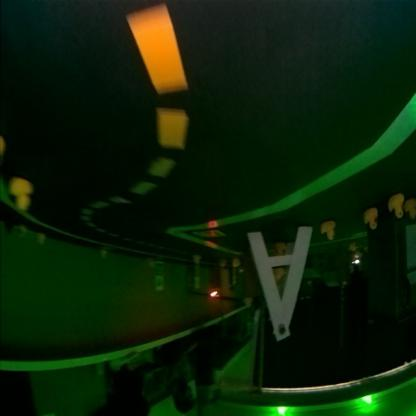Duckie: (12, 178, 34, 210), (366, 209, 380, 230), (392, 196, 404, 218), (322, 222, 336, 240), (407, 198, 415, 222), (274, 268, 286, 282), (275, 245, 287, 256)
